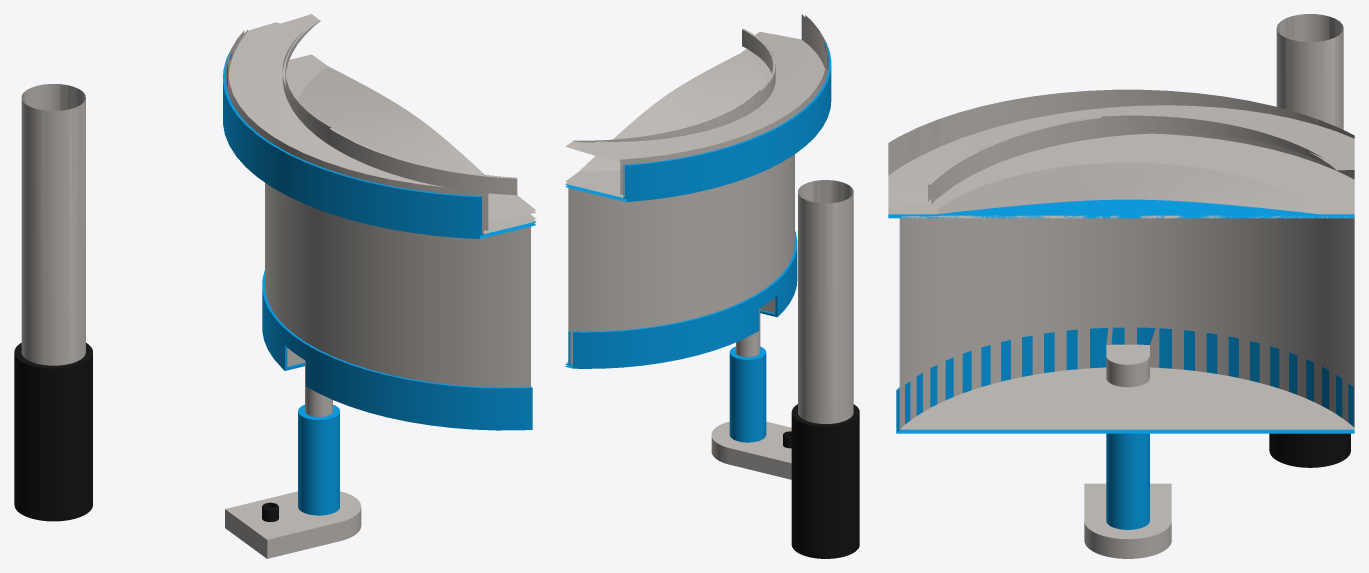
Rendered from Cube06_PinInsertionStation.glb.
3 views of the same model, side by side, from view 1: azimuth 30°, elevation 25°; view 2: azimuth 150°, elevation 25°; view 3: azimuth 270°, elevation 25° (orthographic). The views are drawn at different scales.
Visible parts, largest first — view 1: color-25; view 2: color-25; view 3: color-25.
Boxes of the visible parts, left/top/right/bottom form: color-25: left=14, top=14, right=536, bottom=558; color-25: left=565, top=14, right=859, bottom=558; color-25: left=888, top=14, right=1354, bottom=558.
Bounding box in the file's own units: 0.2577 × 0.32 × 0.32.
